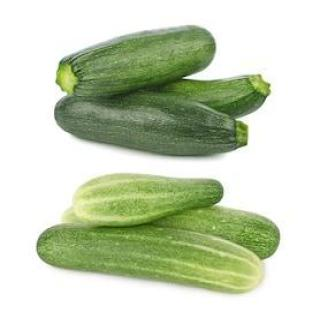Zucchini: (37, 225, 262, 292), (56, 92, 247, 154), (57, 26, 215, 97), (73, 173, 223, 226), (154, 206, 279, 259), (157, 75, 270, 117)
